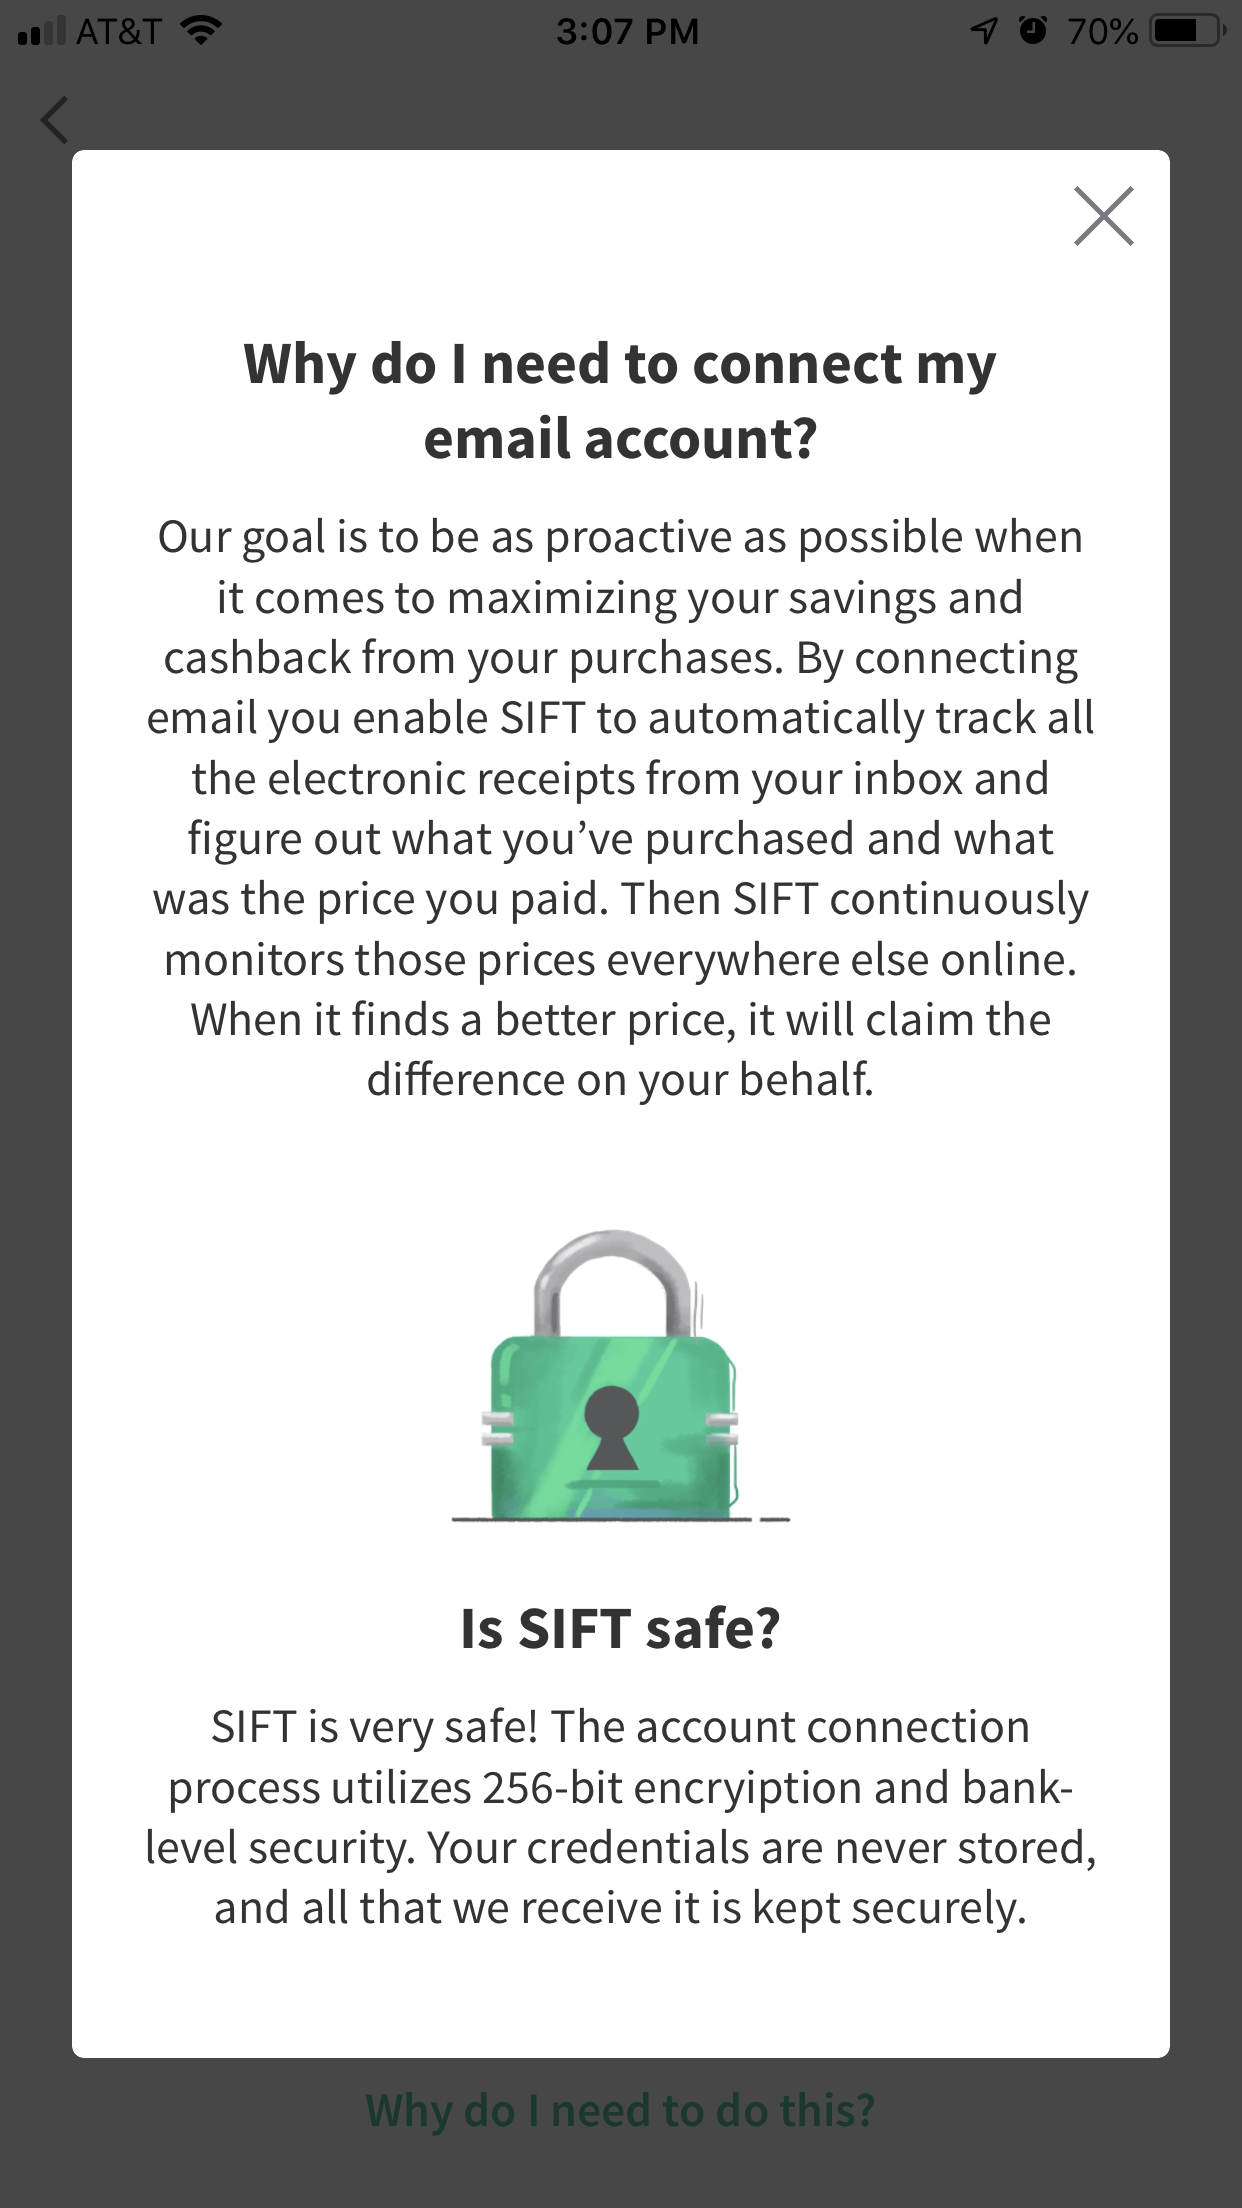Icon: (1074, 187, 1134, 249)
Image: (450, 1228, 792, 1524)
Modal: (71, 150, 1171, 2059)
Text: (149, 517, 1095, 1106), (147, 1708, 1096, 1934), (244, 341, 998, 461), (463, 1604, 781, 1651)
UpperTaskBar: (2, 2, 1242, 49)
